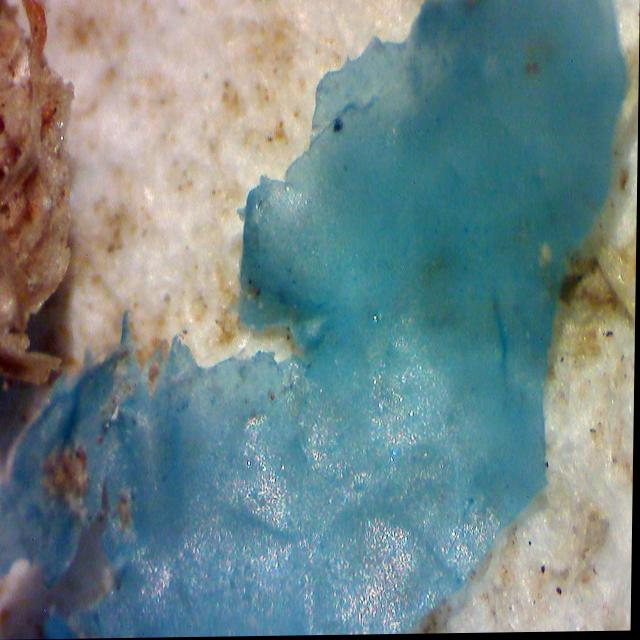microplastic: (0, 0, 633, 638)
